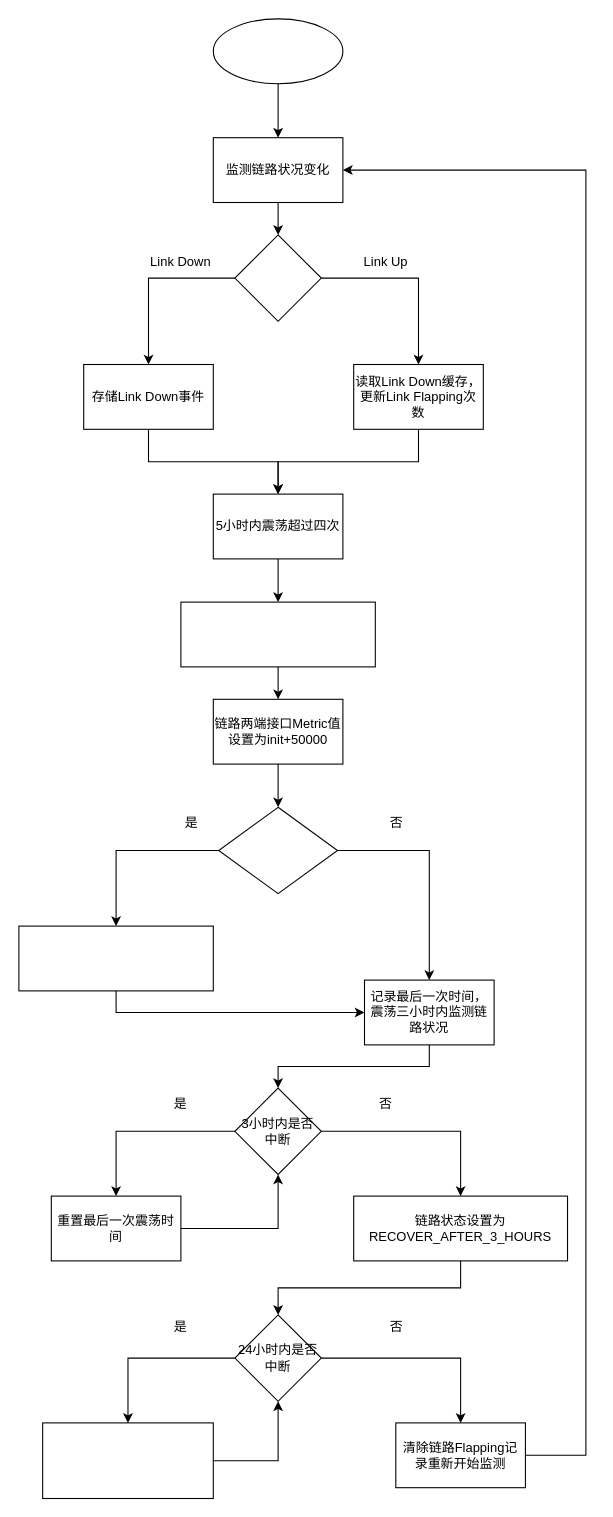
Some shapes in this 613 by 1517 pixel diagram are drawn without their labels. The shapes that lost their labels are listed below. From the top down, each one's centre as x and y in pixels, then its label:
At point 277,51: "start".
At point 277,634: "将链路标记为FLAPPING_IN_5_HOURS".
At point 278,850: "10分钟超出10次".
At point 115,958: "将链路标记为FLAPPING_IN_10_MINUTES 两端Metric值设置为Max".
At point 127,1460: "重置最后一次震荡时间，将Metric设置为+50000，链路状态设置为FLAPPING_IN_24_HOURS".
